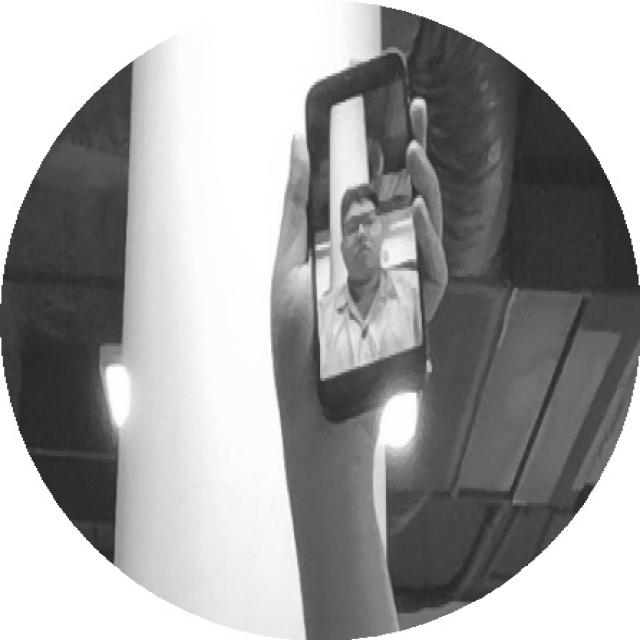fake: (282, 45, 463, 422), (294, 44, 447, 432)
